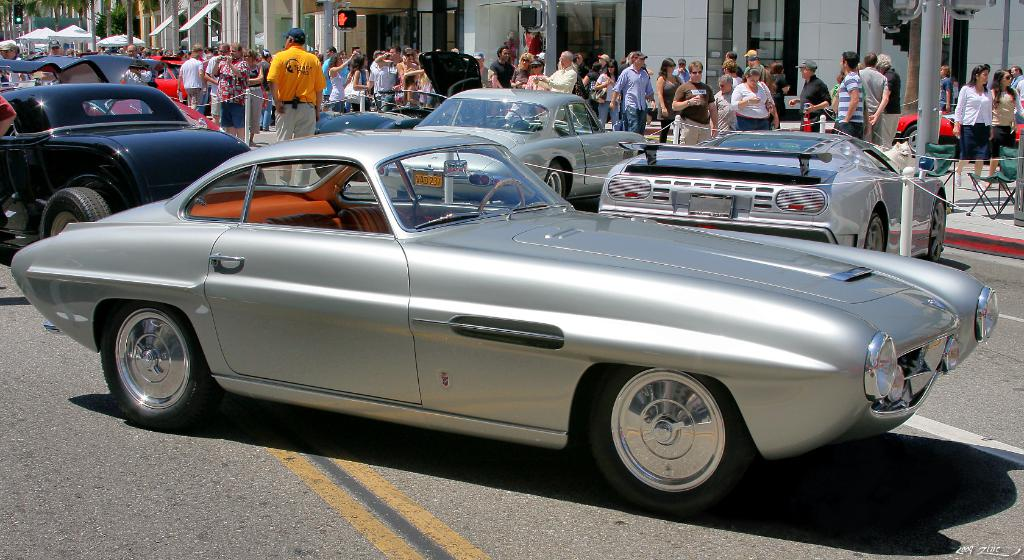Car: (49, 135, 1007, 492), (0, 53, 270, 258), (596, 128, 949, 262), (412, 89, 648, 203), (307, 49, 485, 132), (892, 96, 1023, 155)
